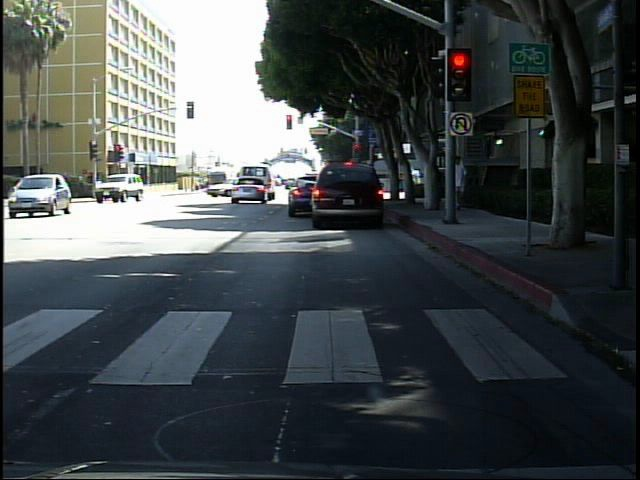person: (453, 153, 471, 220), (98, 175, 99, 201)
